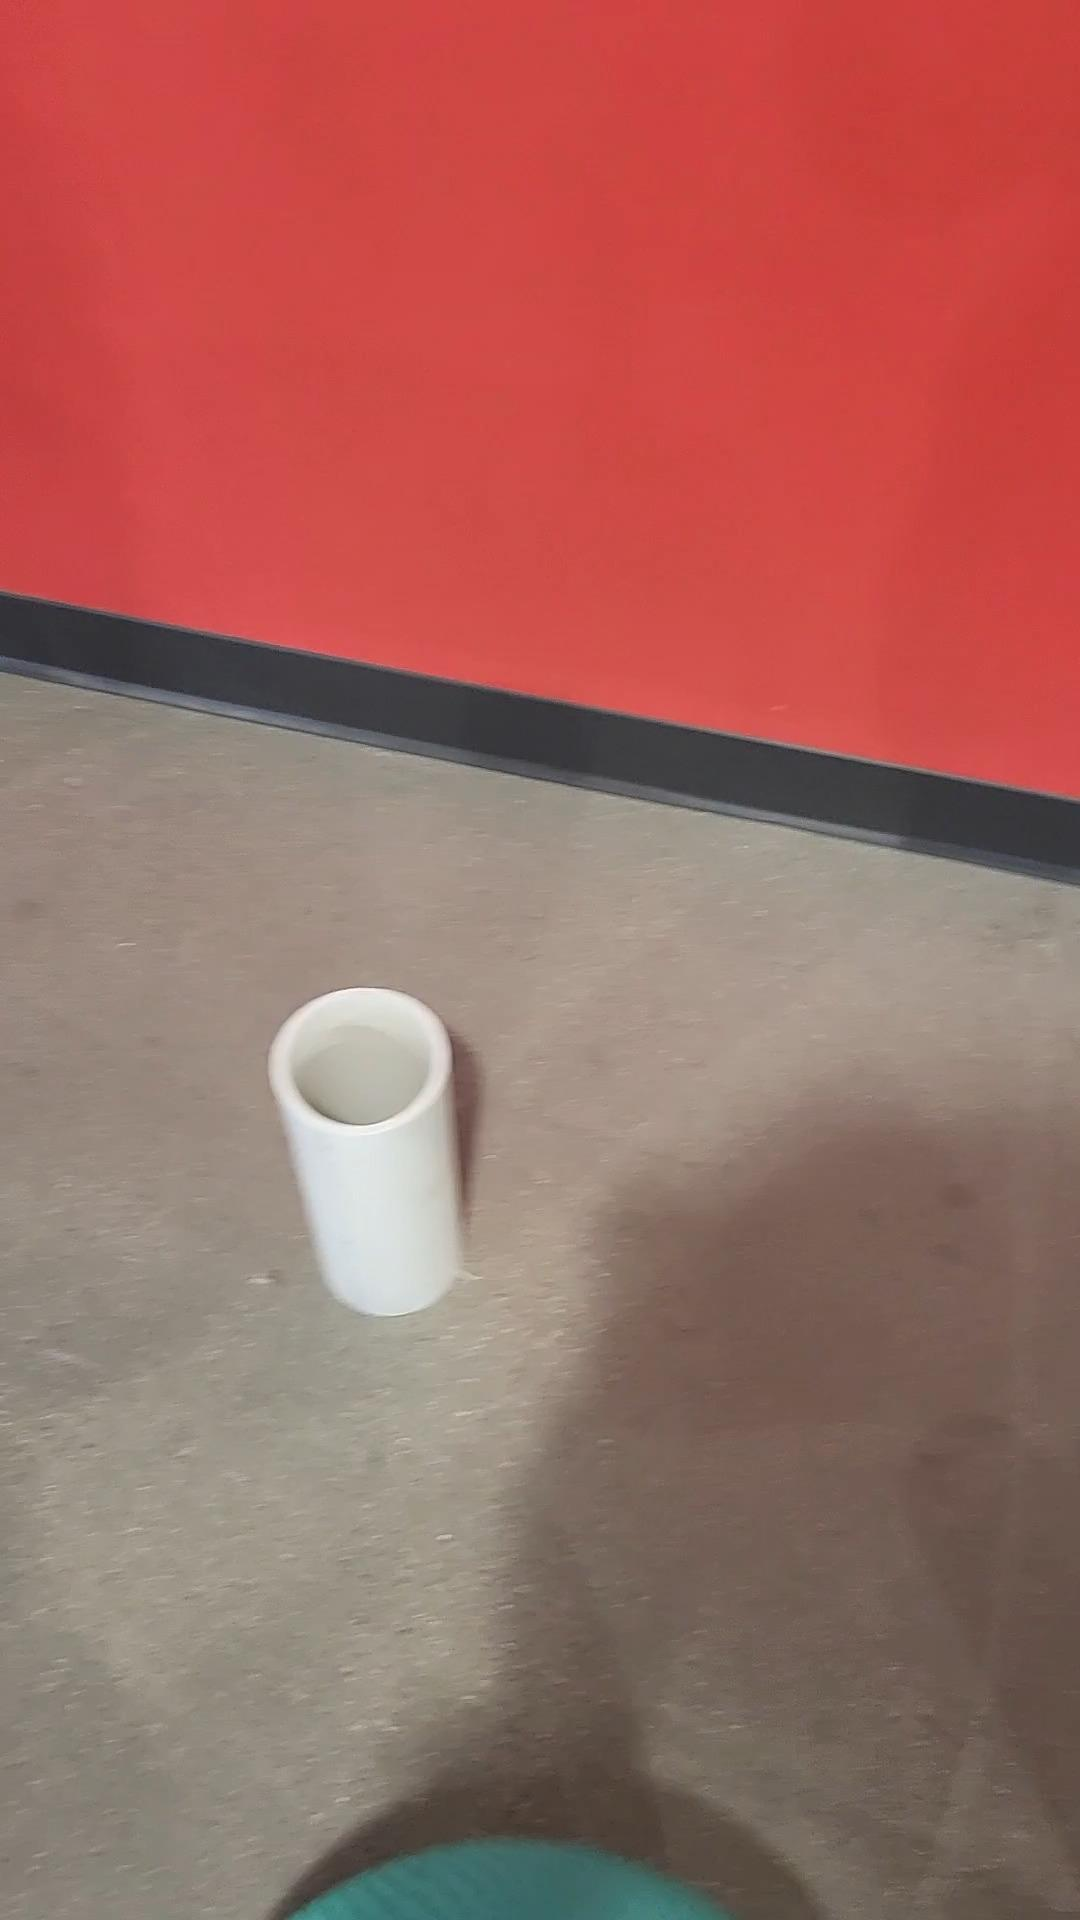algae: (270, 1829, 743, 1920)
coral: (267, 983, 466, 1321)
